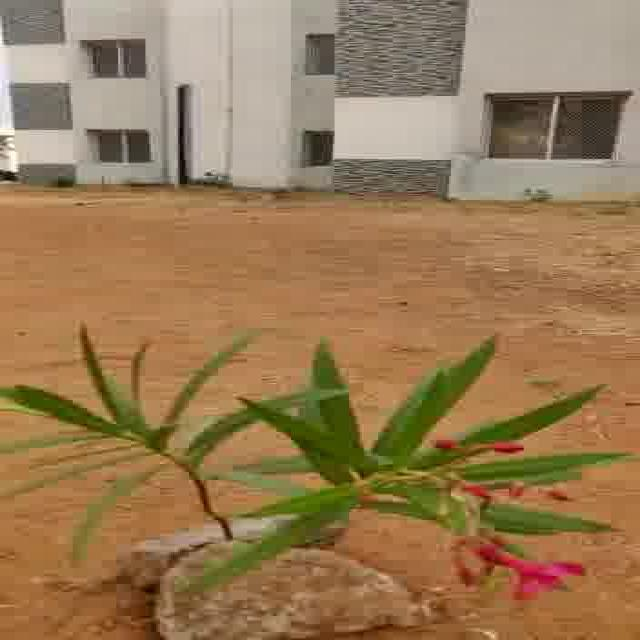Oleander: (16, 337, 632, 553)
